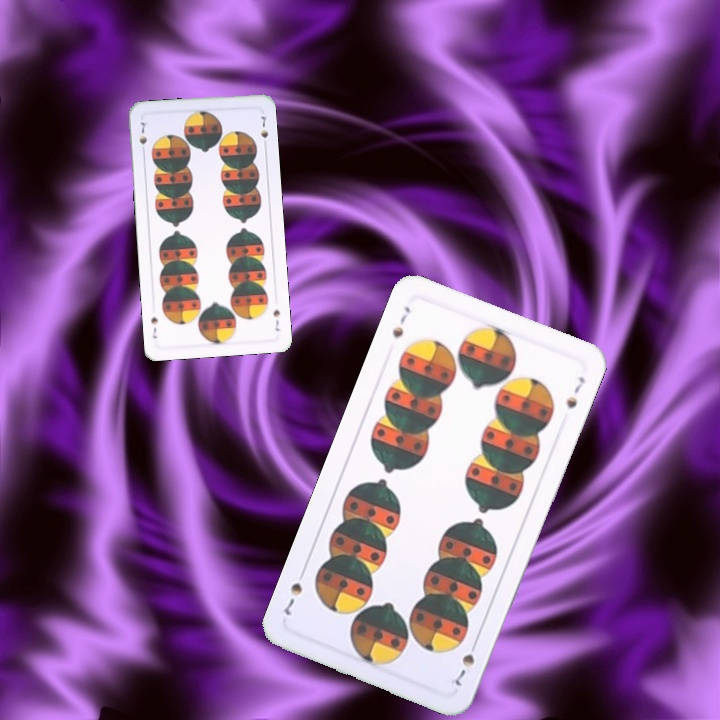S7: (451, 635, 481, 689), (388, 302, 413, 341), (135, 118, 150, 156), (269, 305, 282, 334)
